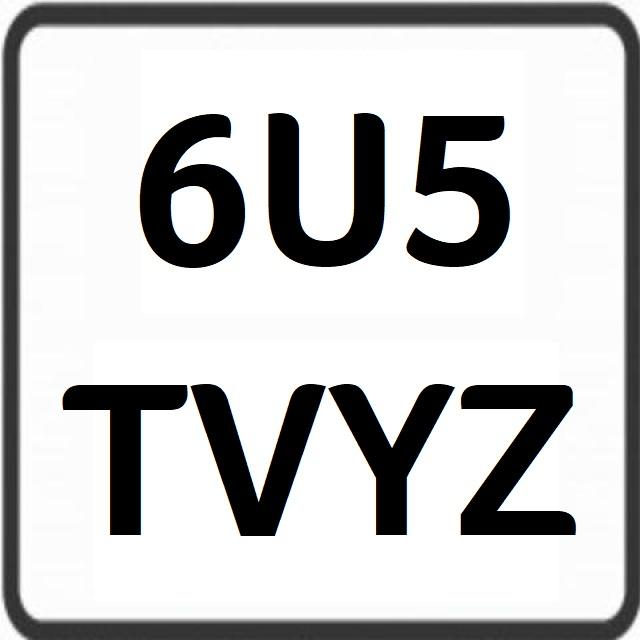5: (133, 108, 252, 276), (404, 108, 514, 276)
T: (59, 374, 194, 541)
U: (266, 107, 388, 276)
V: (185, 375, 327, 544)
Y: (328, 374, 450, 547)
Z: (459, 372, 584, 546)
